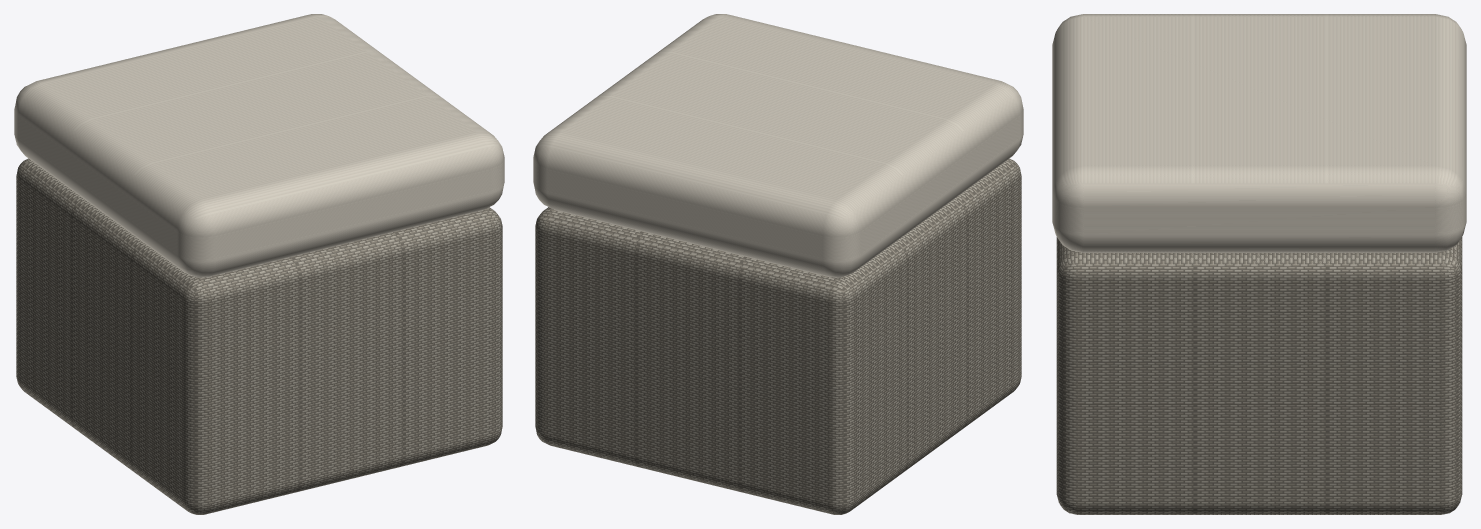
Rendered from premium-stool.glb.
3 renders of one model, left to right at view 1: azimuth 30°, elevation 25°; view 2: azimuth 150°, elevation 25°; view 3: azimuth 270°, elevation 25°, orthographic. The views are drawn at different scales.
Visible parts, largest first — view 1: premium-stool; view 2: premium-stool; view 3: premium-stool.
Boxes of the visible parts, x1,y1,x2,y2 form: premium-stool: (14,14,504,514); premium-stool: (533,14,1023,514); premium-stool: (1052,14,1466,514).
Bounding box in the file's own units: 0.49 × 0.45 × 0.49.
2 materials, 2 textured.
